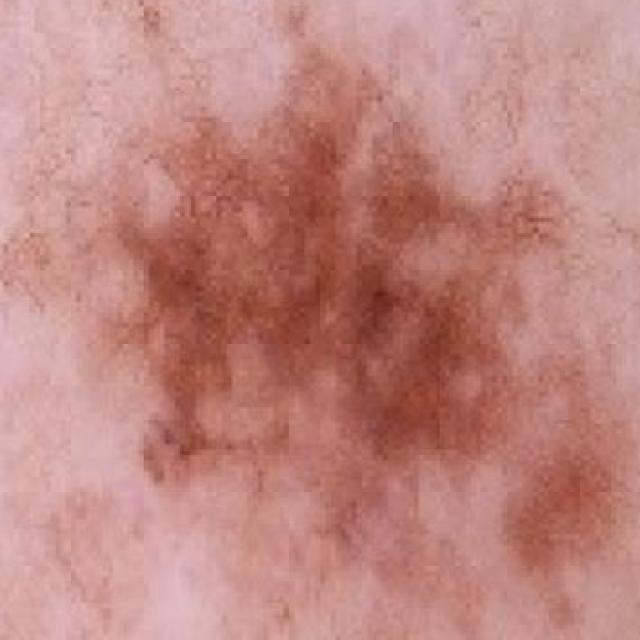MEL: (71, 0, 640, 620)
